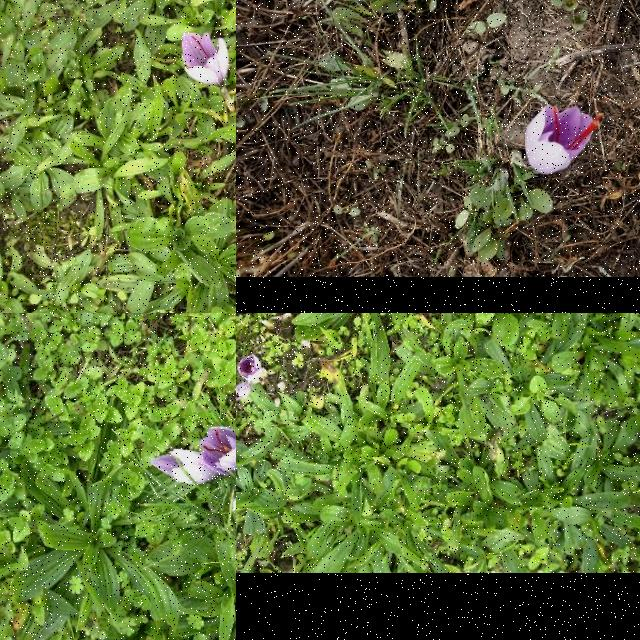flower: (524, 103, 604, 175), (181, 33, 229, 87), (150, 450, 212, 486), (199, 427, 236, 477), (239, 355, 261, 381), (236, 383, 249, 403), (231, 496, 236, 519)
